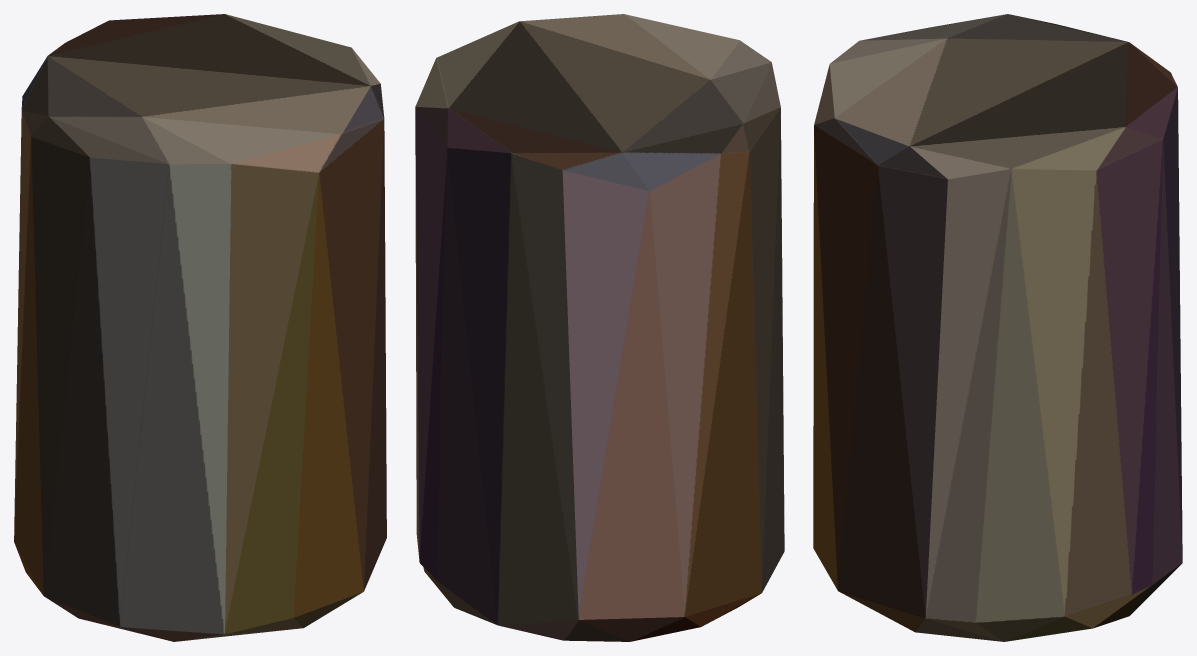
Rendered from wood.fbx.
3 renders of one model, left to right at view 1: azimuth 30°, elevation 25°; view 2: azimuth 150°, elevation 25°; view 3: azimuth 270°, elevation 25°, orthographic.
Parts seen in each view (by area): view 1: Mesh_0; view 2: Mesh_0; view 3: Mesh_0.
Part boxes in pixels (bbox=[...]): Mesh_0: bbox=[14, 14, 386, 641]; Mesh_0: bbox=[415, 14, 784, 641]; Mesh_0: bbox=[813, 14, 1182, 641].
Size of the model in its own units: 77.31 by 119 by 77.65.
Materials: 1 (1 with a texture image).
